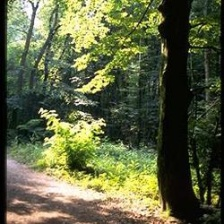neutral: (11, 1, 222, 223)
